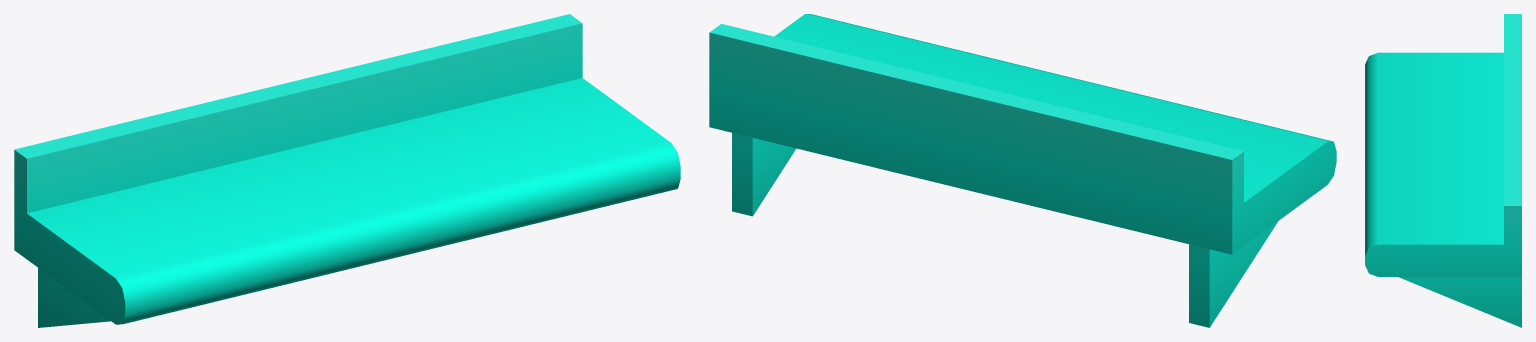
The model's file is Wall_Rack_01_C05.fbx.
3 views of the same model, side by side, from view 1: azimuth 30°, elevation 25°; view 2: azimuth 150°, elevation 25°; view 3: azimuth 270°, elevation 25° (orthographic). The views are drawn at different scales.
Visible parts, largest first — view 1: Wall_Rack_01_C05; view 2: Wall_Rack_01_C05; view 3: Wall_Rack_01_C05.
Part boxes in pixels (x1,y1,x2,y2): Wall_Rack_01_C05: (14,14,680,327); Wall_Rack_01_C05: (709,14,1336,327); Wall_Rack_01_C05: (1365,14,1521,327).
Size of the model in its own units: 100 by 31.7 by 34.58.
